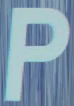Parking: (9, 1, 67, 103)
